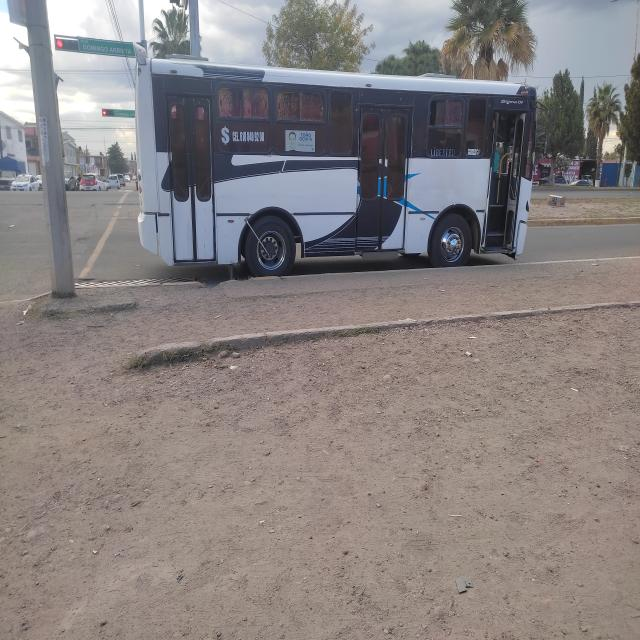Autobus: (119, 32, 546, 275)
